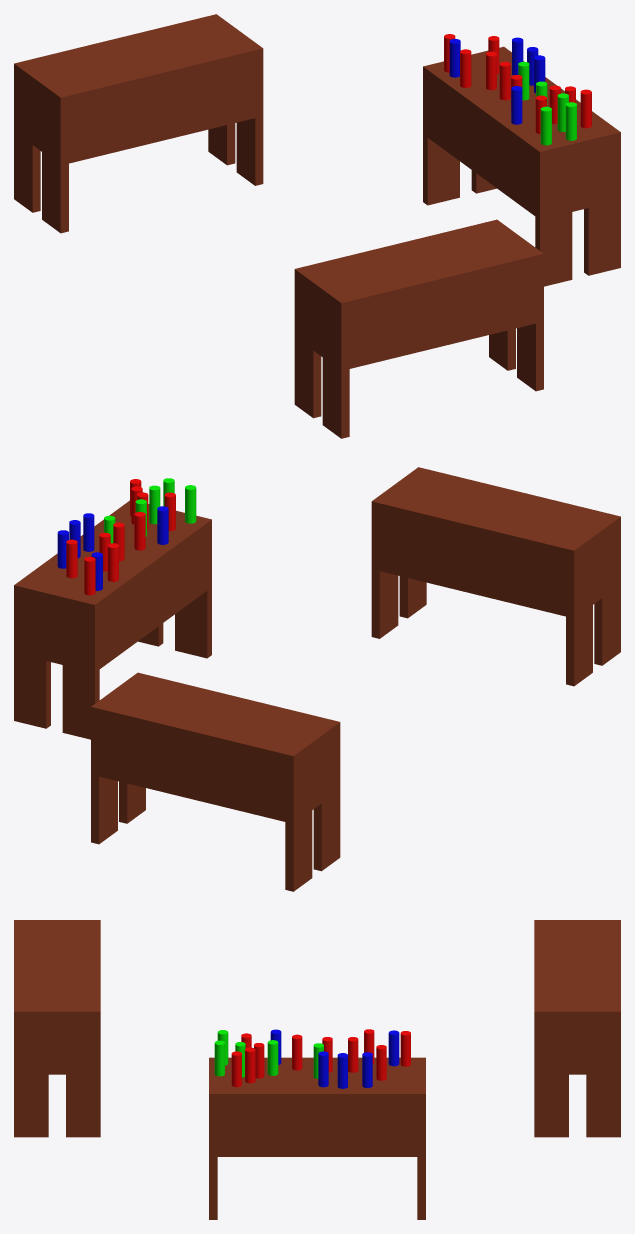
File: sort_clutter_5.dae
The picture shows the model from 3 angles, top to bottom: view 1: azimuth 30°, elevation 25°; view 2: azimuth 150°, elevation 25°; view 3: azimuth 270°, elevation 25°; orthographic projection. The views are drawn at different scales.
Parts seen in each view (by area): view 1: base (×14); view 2: base (×14); view 3: base (×11).
Boxes of the visible parts, x1,y1,x2,y2 form: base (×14): [14, 14, 620, 438]; base (×14): [14, 467, 620, 891]; base (×11): [14, 920, 620, 1219].
Size of the model in its own units: 2.38 by 3.5 by 1.
